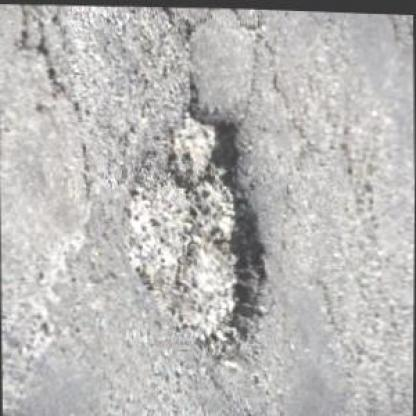pothole: (115, 93, 272, 363)
